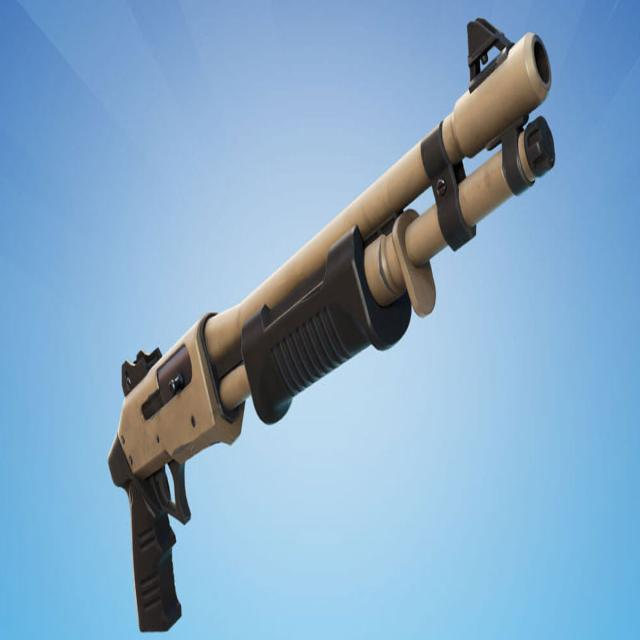ShotGun: (108, 22, 556, 633)
